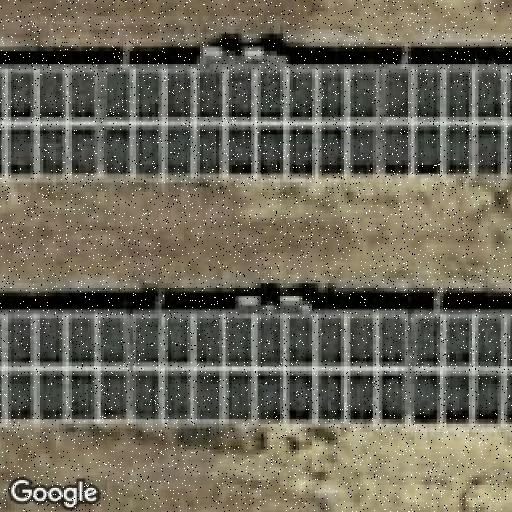solar-panel: (0, 62, 512, 182), (3, 309, 512, 424)
